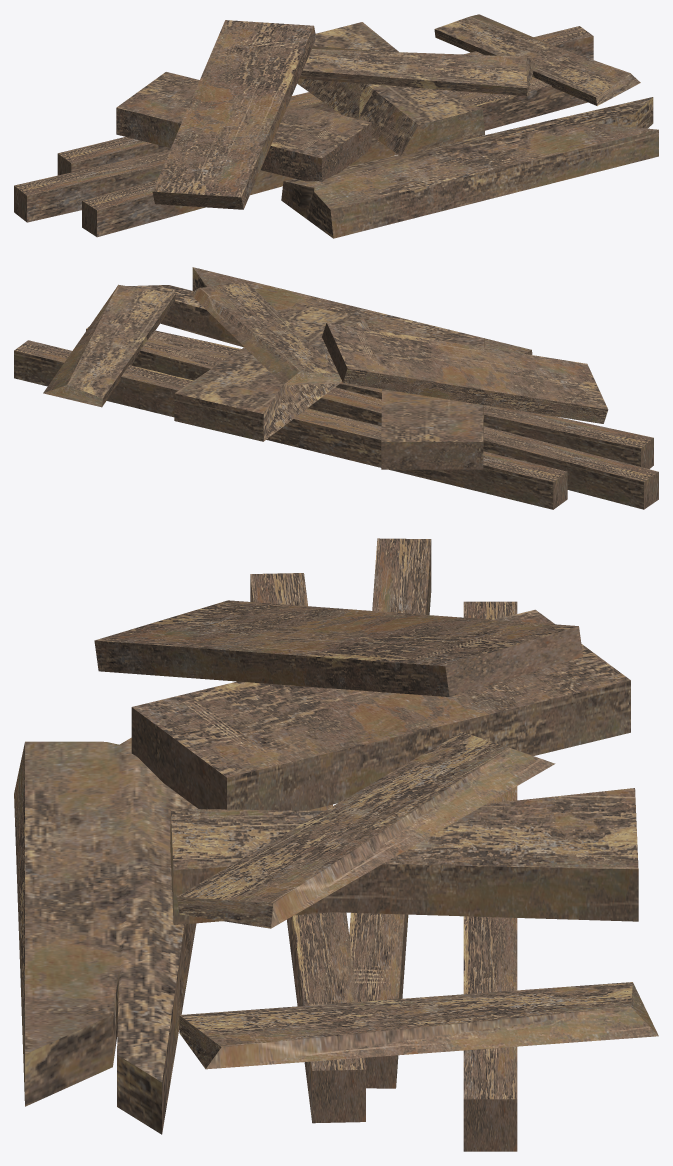
Rendered from SM_Broken_Wood_02.fbx.
The picture shows the model from 3 angles, top to bottom: view 1: azimuth 30°, elevation 25°; view 2: azimuth 150°, elevation 25°; view 3: azimuth 270°, elevation 25°; orthographic projection. The views are drawn at different scales.
Parts seen in each view (by area): view 1: SM_Broken_Wood_02; view 2: SM_Broken_Wood_02; view 3: SM_Broken_Wood_02.
Part boxes in pixels (x1,y1,x2,y2): SM_Broken_Wood_02: [14, 14, 658, 238]; SM_Broken_Wood_02: [14, 267, 658, 509]; SM_Broken_Wood_02: [14, 538, 658, 1151].
Bounding box in the file's own units: 97.41 × 17.37 × 47.36.
1 material, 1 textured.
